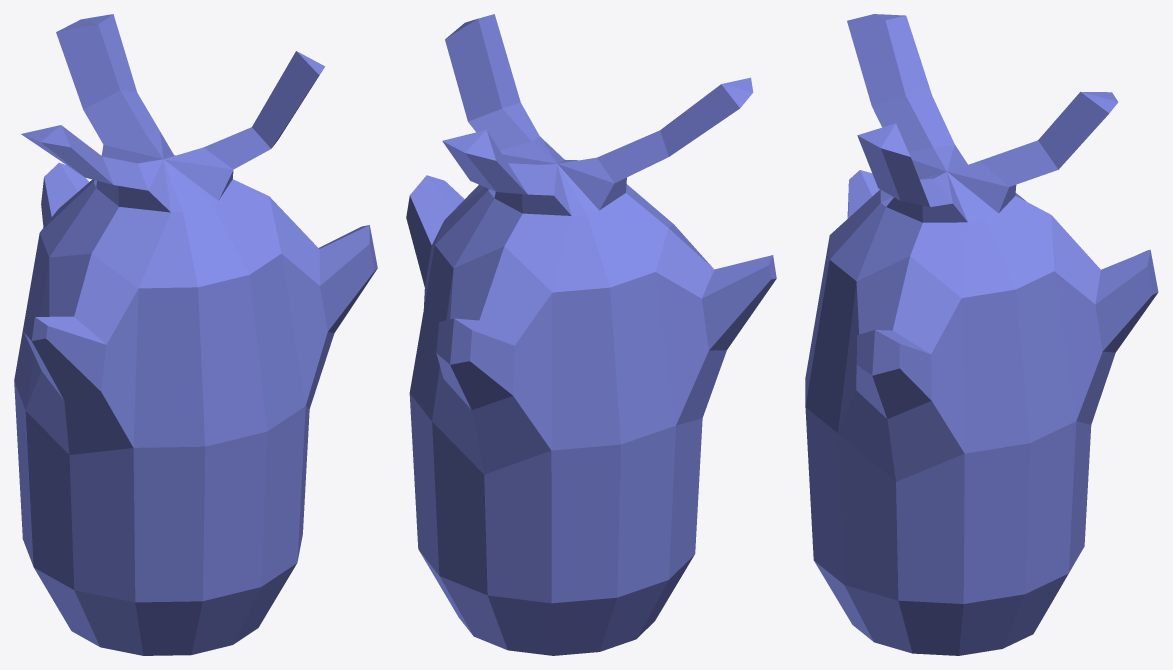
Rendered from SM_LlaveAltar.fbx.
3 views of the same model, side by side, from view 1: azimuth 30°, elevation 25°; view 2: azimuth 150°, elevation 25°; view 3: azimuth 270°, elevation 25° (orthographic). The views are drawn at different scales.
Visible parts, largest first — view 1: Sphere001; view 2: Sphere001; view 3: Sphere001.
Part boxes in pixels (bbox=[...]): Sphere001: bbox=[14, 14, 377, 655]; Sphere001: bbox=[406, 14, 776, 655]; Sphere001: bbox=[805, 14, 1158, 655].
Bounding box in the file's own units: 22.99 × 36.91 × 20.34.
